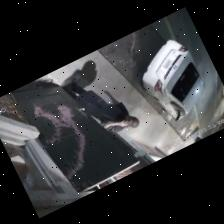person: (65, 78, 139, 131)
